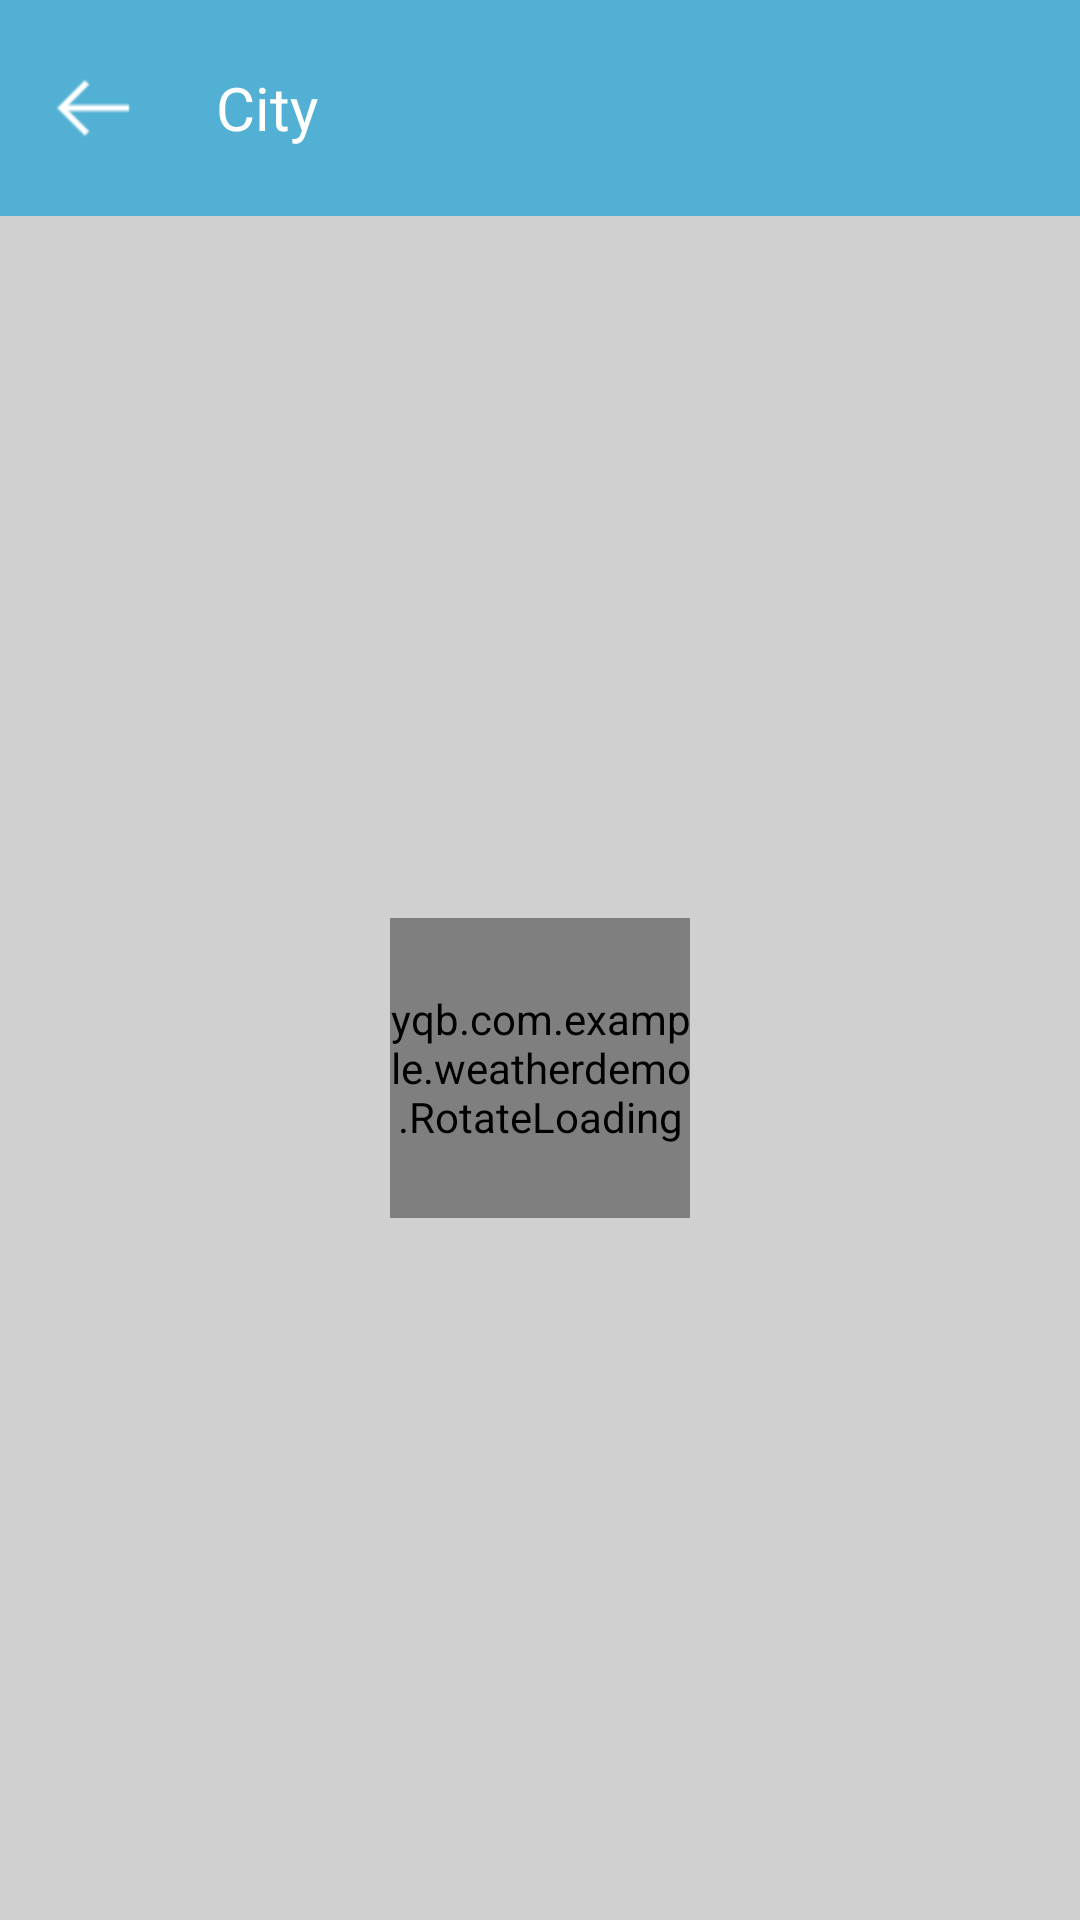

Where icons sit on this 1080px×1920px app screen, as (x1, y1, x2, y2):
arrow left: (57, 80, 130, 136)
